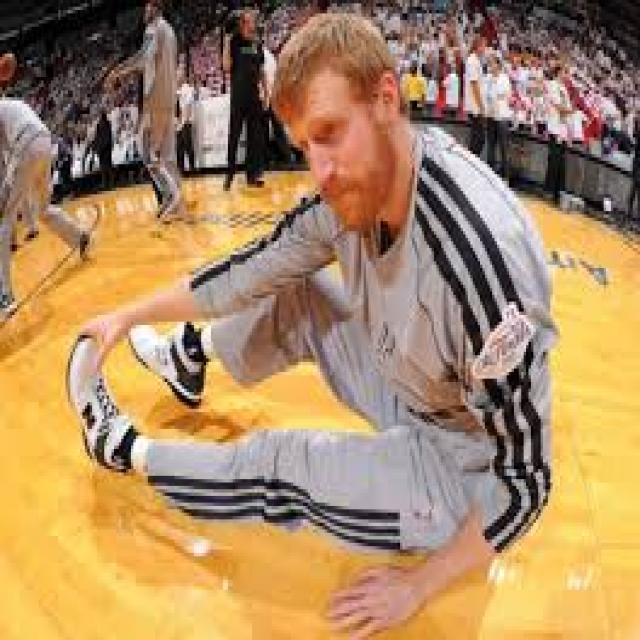rim: (0, 50, 17, 87)
